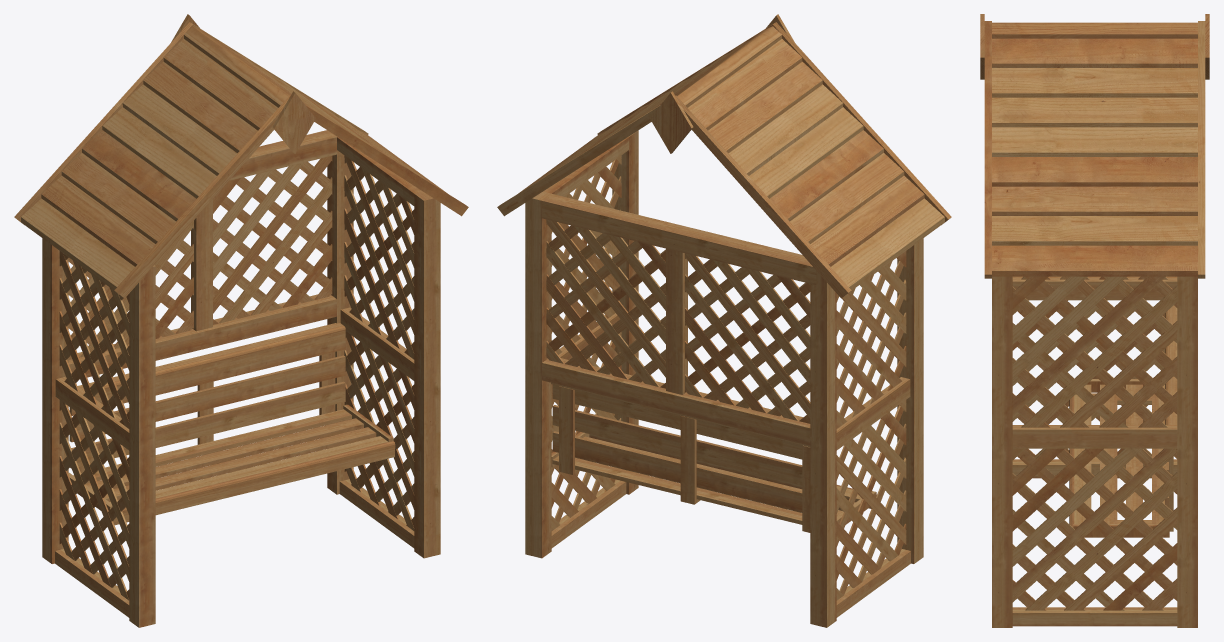
Rendered from arbor_bench_b.FBX.
3 renders of one model, left to right at view 1: azimuth 30°, elevation 25°; view 2: azimuth 150°, elevation 25°; view 3: azimuth 270°, elevation 25°, orthographic. The views are drawn at different scales.
Parts seen in each view (by area): view 1: arbor_bench_b_LOD0; view 2: arbor_bench_b_LOD0; view 3: arbor_bench_b_LOD0.
Part boxes in pixels (x1,y1,x2,y2): arbor_bench_b_LOD0: (14, 14, 468, 627); arbor_bench_b_LOD0: (497, 14, 951, 627); arbor_bench_b_LOD0: (980, 14, 1209, 627).
Size of what is drawn, in the model's own units: 210 by 288 by 111.
